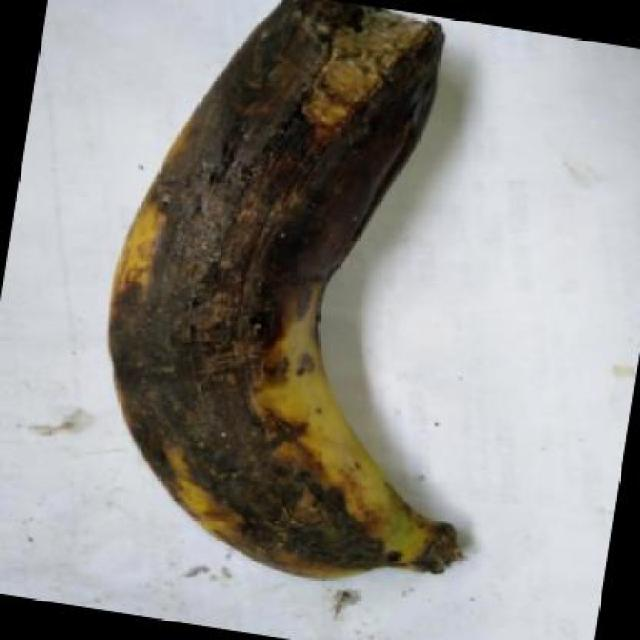Rotten: (80, 0, 510, 603)
